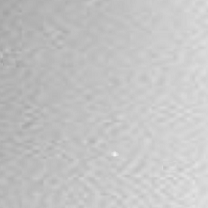Target: (111, 151, 119, 157)
